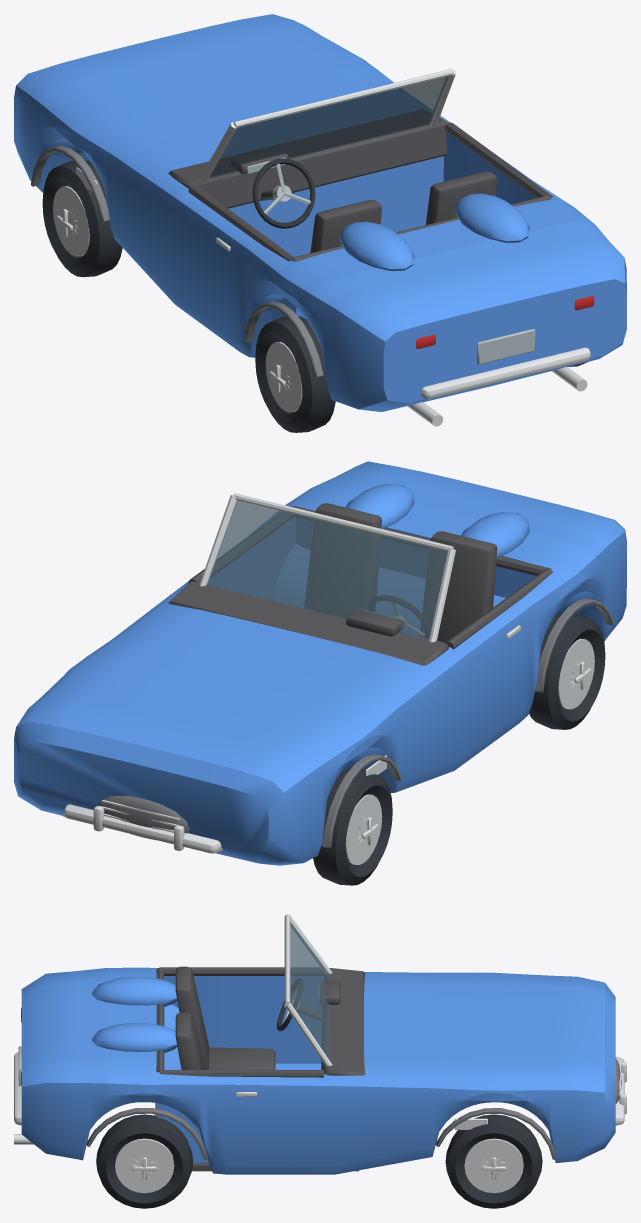
The model's file is Roadster.fbx.
The picture shows the model from 3 angles, top to bottom: view 1: azimuth 30°, elevation 25°; view 2: azimuth 150°, elevation 25°; view 3: azimuth 270°, elevation 25°; orthographic projection. The views are drawn at different scales.
Parts seen in each view (by area): view 1: Body__paint, Body__interior, Body__glass, Body__chrome, WheelRL__rubber, WheelFL__rubber, Body__engine, WheelFL__chrome, WheelRL__chrome, Body__metal, Steer__rubber; view 2: Body__paint, Body__interior, Body__glass, Body__chrome, Body__engine, WheelFL__rubber, WheelRL__rubber, WheelRL__chrome, WheelFL__chrome; view 3: Body__paint, Body__interior, WheelRR__rubber, WheelFR__rubber, Body__glass, Body__chrome, WheelFR__chrome, WheelRR__chrome, Body__engine, Steer__rubber.
Boxes of the visible parts, box(x1,y1,x2,y2) form: Body__paint: box(14, 14, 626, 411); Body__interior: box(168, 109, 552, 261); Body__glass: box(209, 76, 449, 178); Body__chrome: box(76, 68, 590, 426); WheelRL__rubber: box(255, 316, 335, 432); WheelFL__rubber: box(42, 160, 122, 277); Body__engine: box(31, 145, 323, 377); WheelFL__chrome: box(53, 186, 89, 256); WheelRL__chrome: box(265, 341, 302, 412); Body__metal: box(247, 157, 535, 364); Steer__rubber: box(252, 158, 315, 228); Body__paint: box(14, 461, 626, 865); Body__interior: box(168, 503, 552, 665); Body__glass: box(206, 500, 447, 639); Body__chrome: box(64, 493, 520, 853); Body__engine: box(98, 598, 613, 848); WheelFL__rubber: box(313, 769, 392, 885); WheelRL__rubber: box(529, 613, 605, 729); WheelRL__chrome: box(558, 638, 594, 709); WheelFL__chrome: box(345, 794, 382, 864); Body__paint: box(21, 967, 615, 1174); Body__interior: box(155, 966, 365, 1171); WheelRR__rubber: box(96, 1114, 192, 1208); WheelFR__rubber: box(445, 1114, 542, 1208); Body__glass: box(290, 922, 329, 1060); Body__chrome: box(14, 914, 626, 1144); WheelFR__chrome: box(464, 1138, 523, 1193); WheelRR__chrome: box(115, 1138, 174, 1193); Body__engine: box(86, 1058, 621, 1159); Steer__rubber: box(277, 978, 303, 1031).
Size of the model in its own units: 1.93 by 1.41 by 4.04.
